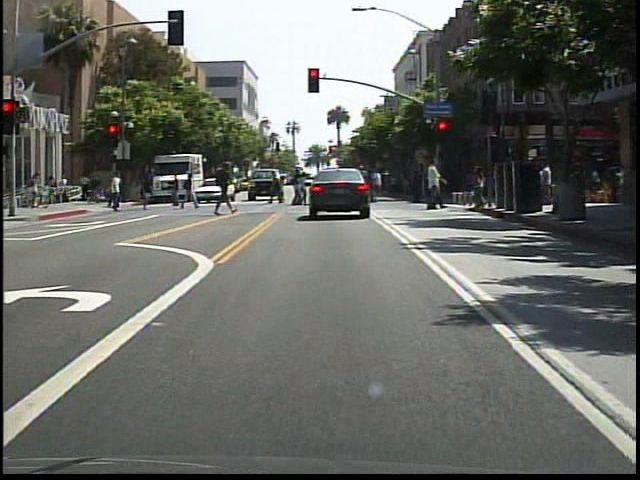person: (420, 157, 450, 213), (210, 161, 238, 218), (335, 167, 357, 216), (180, 171, 201, 212), (108, 171, 127, 216), (168, 171, 183, 212), (260, 170, 276, 207)
